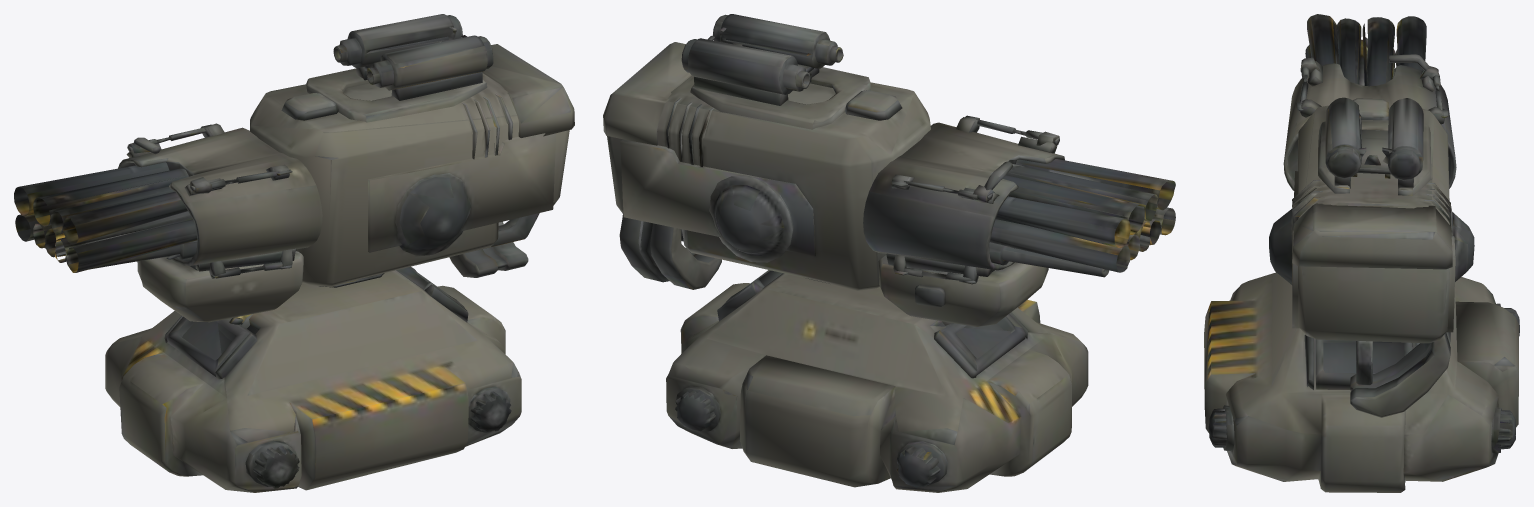
File: t_shotgunT_2.glb
The picture shows the model from 3 angles, left to right: view 1: azimuth 30°, elevation 25°; view 2: azimuth 150°, elevation 25°; view 3: azimuth 270°, elevation 25°; orthographic projection. The views are drawn at different scales.
Size of the model in its own units: 0.9531 by 0.6675 by 0.54.
Materials: 1 (1 with a texture image).
